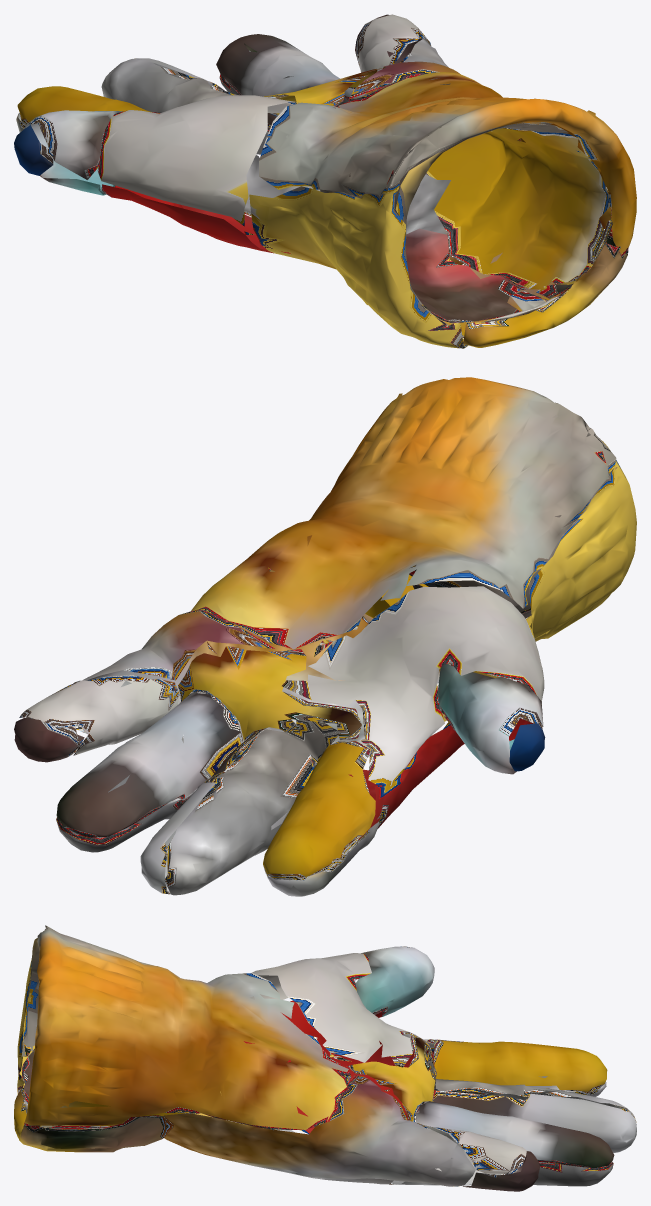
The model's file is rest-handschuh.glb.
The picture shows the model from 3 angles, top to bottom: view 1: azimuth 30°, elevation 25°; view 2: azimuth 150°, elevation 25°; view 3: azimuth 270°, elevation 25°; orthographic projection. The views are drawn at different scales.
Visible parts, largest first — view 1: rest-handschuh; view 2: rest-handschuh; view 3: rest-handschuh.
Boxes of the visible parts, box(x1,y1,x2,y2) form: rest-handschuh: box(14, 14, 636, 348); rest-handschuh: box(14, 377, 636, 896); rest-handschuh: box(14, 925, 636, 1191).
Size of the model in its own units: 0.089 by 0.0494 by 0.1273.
1 material, 1 textured.
